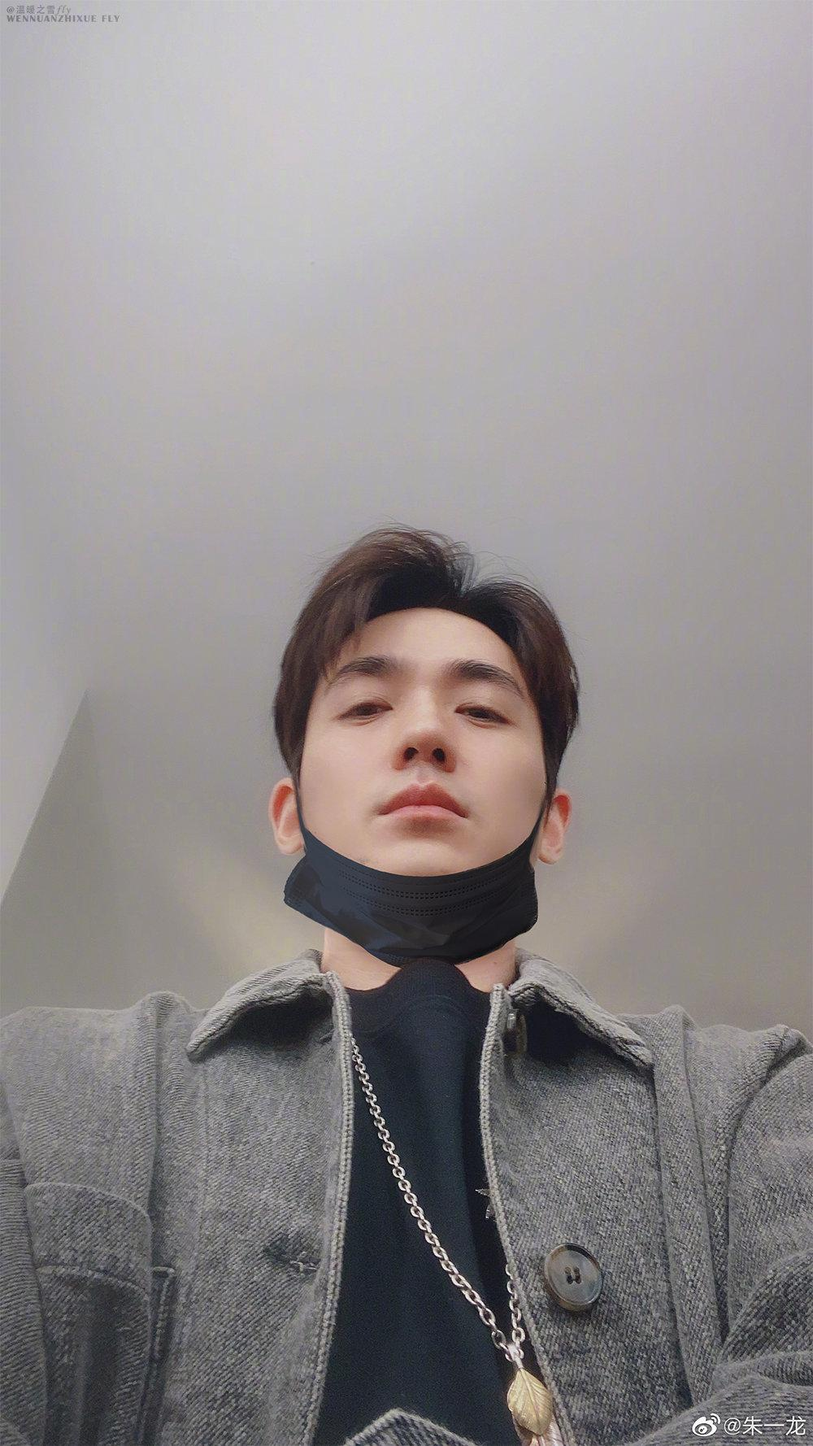WRONG: (308, 623, 537, 916)
